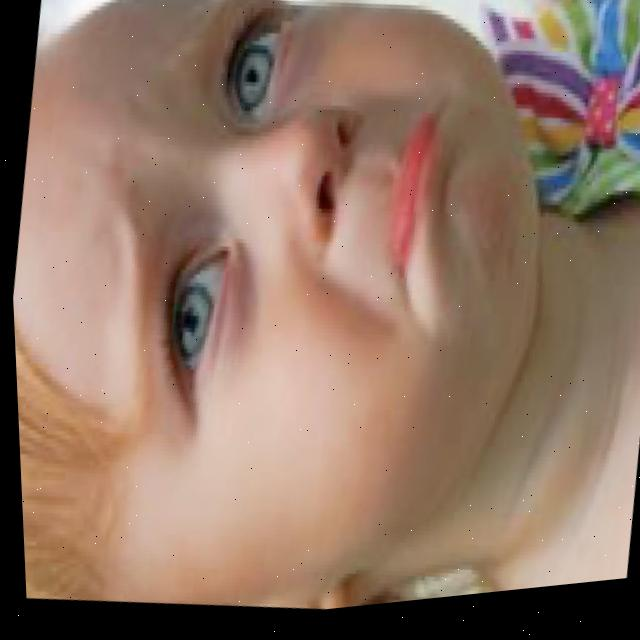sad: (0, 0, 585, 591)
